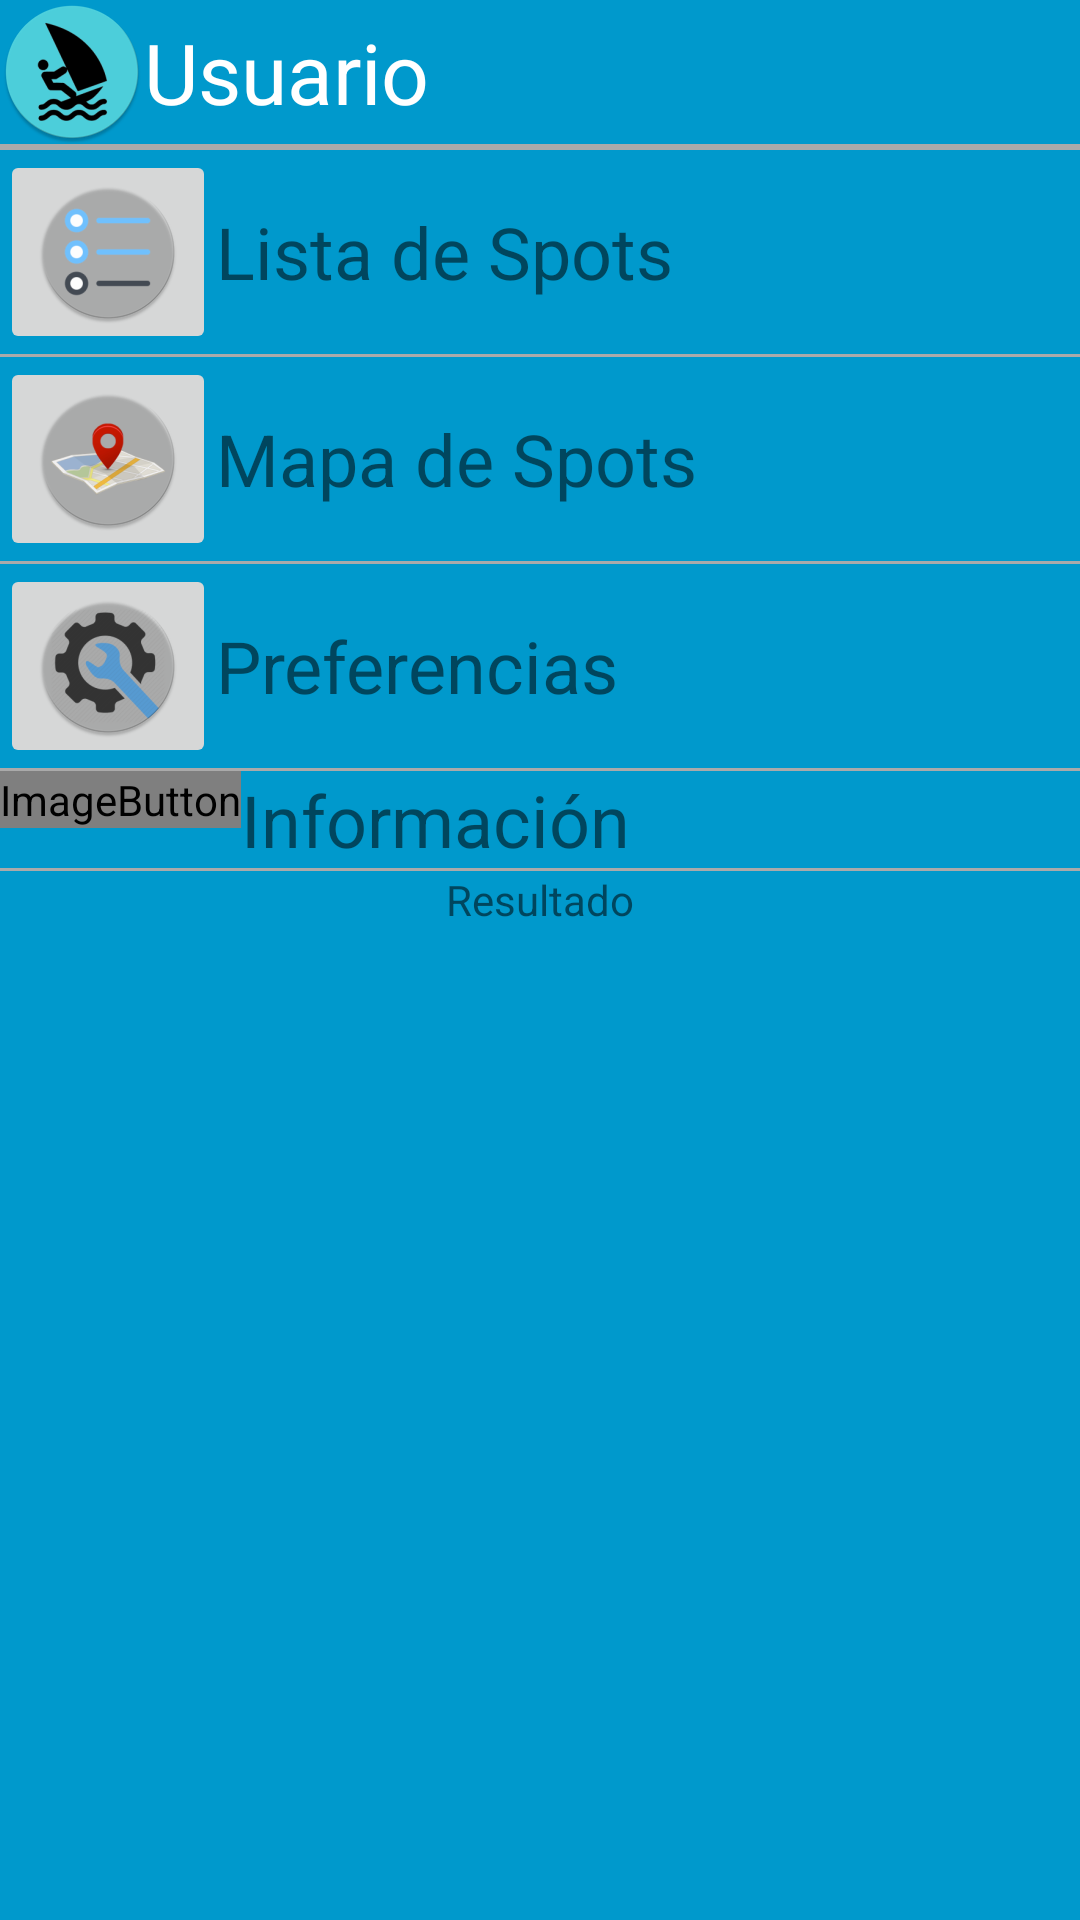

Locate icon controls on the screen. Image size 1080×1920, boxes as (x1, y1, x2, y2).
lista round: (12, 168, 204, 336)
mapa round: (12, 375, 204, 543)
